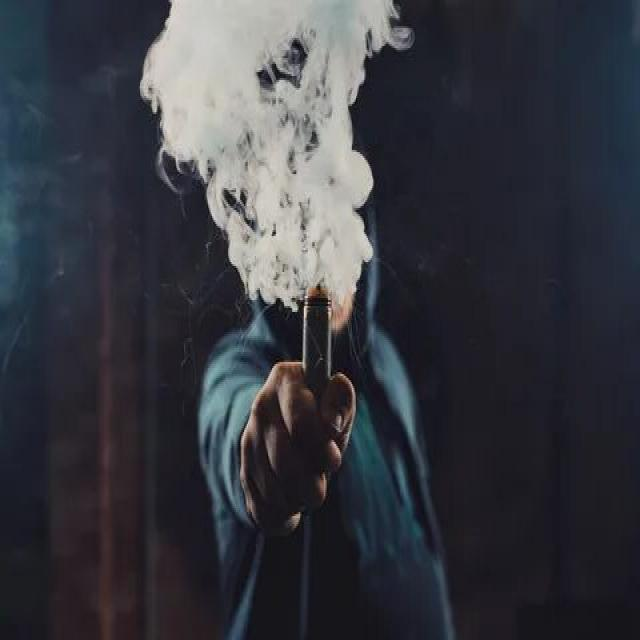smoke: (296, 264, 341, 422)
